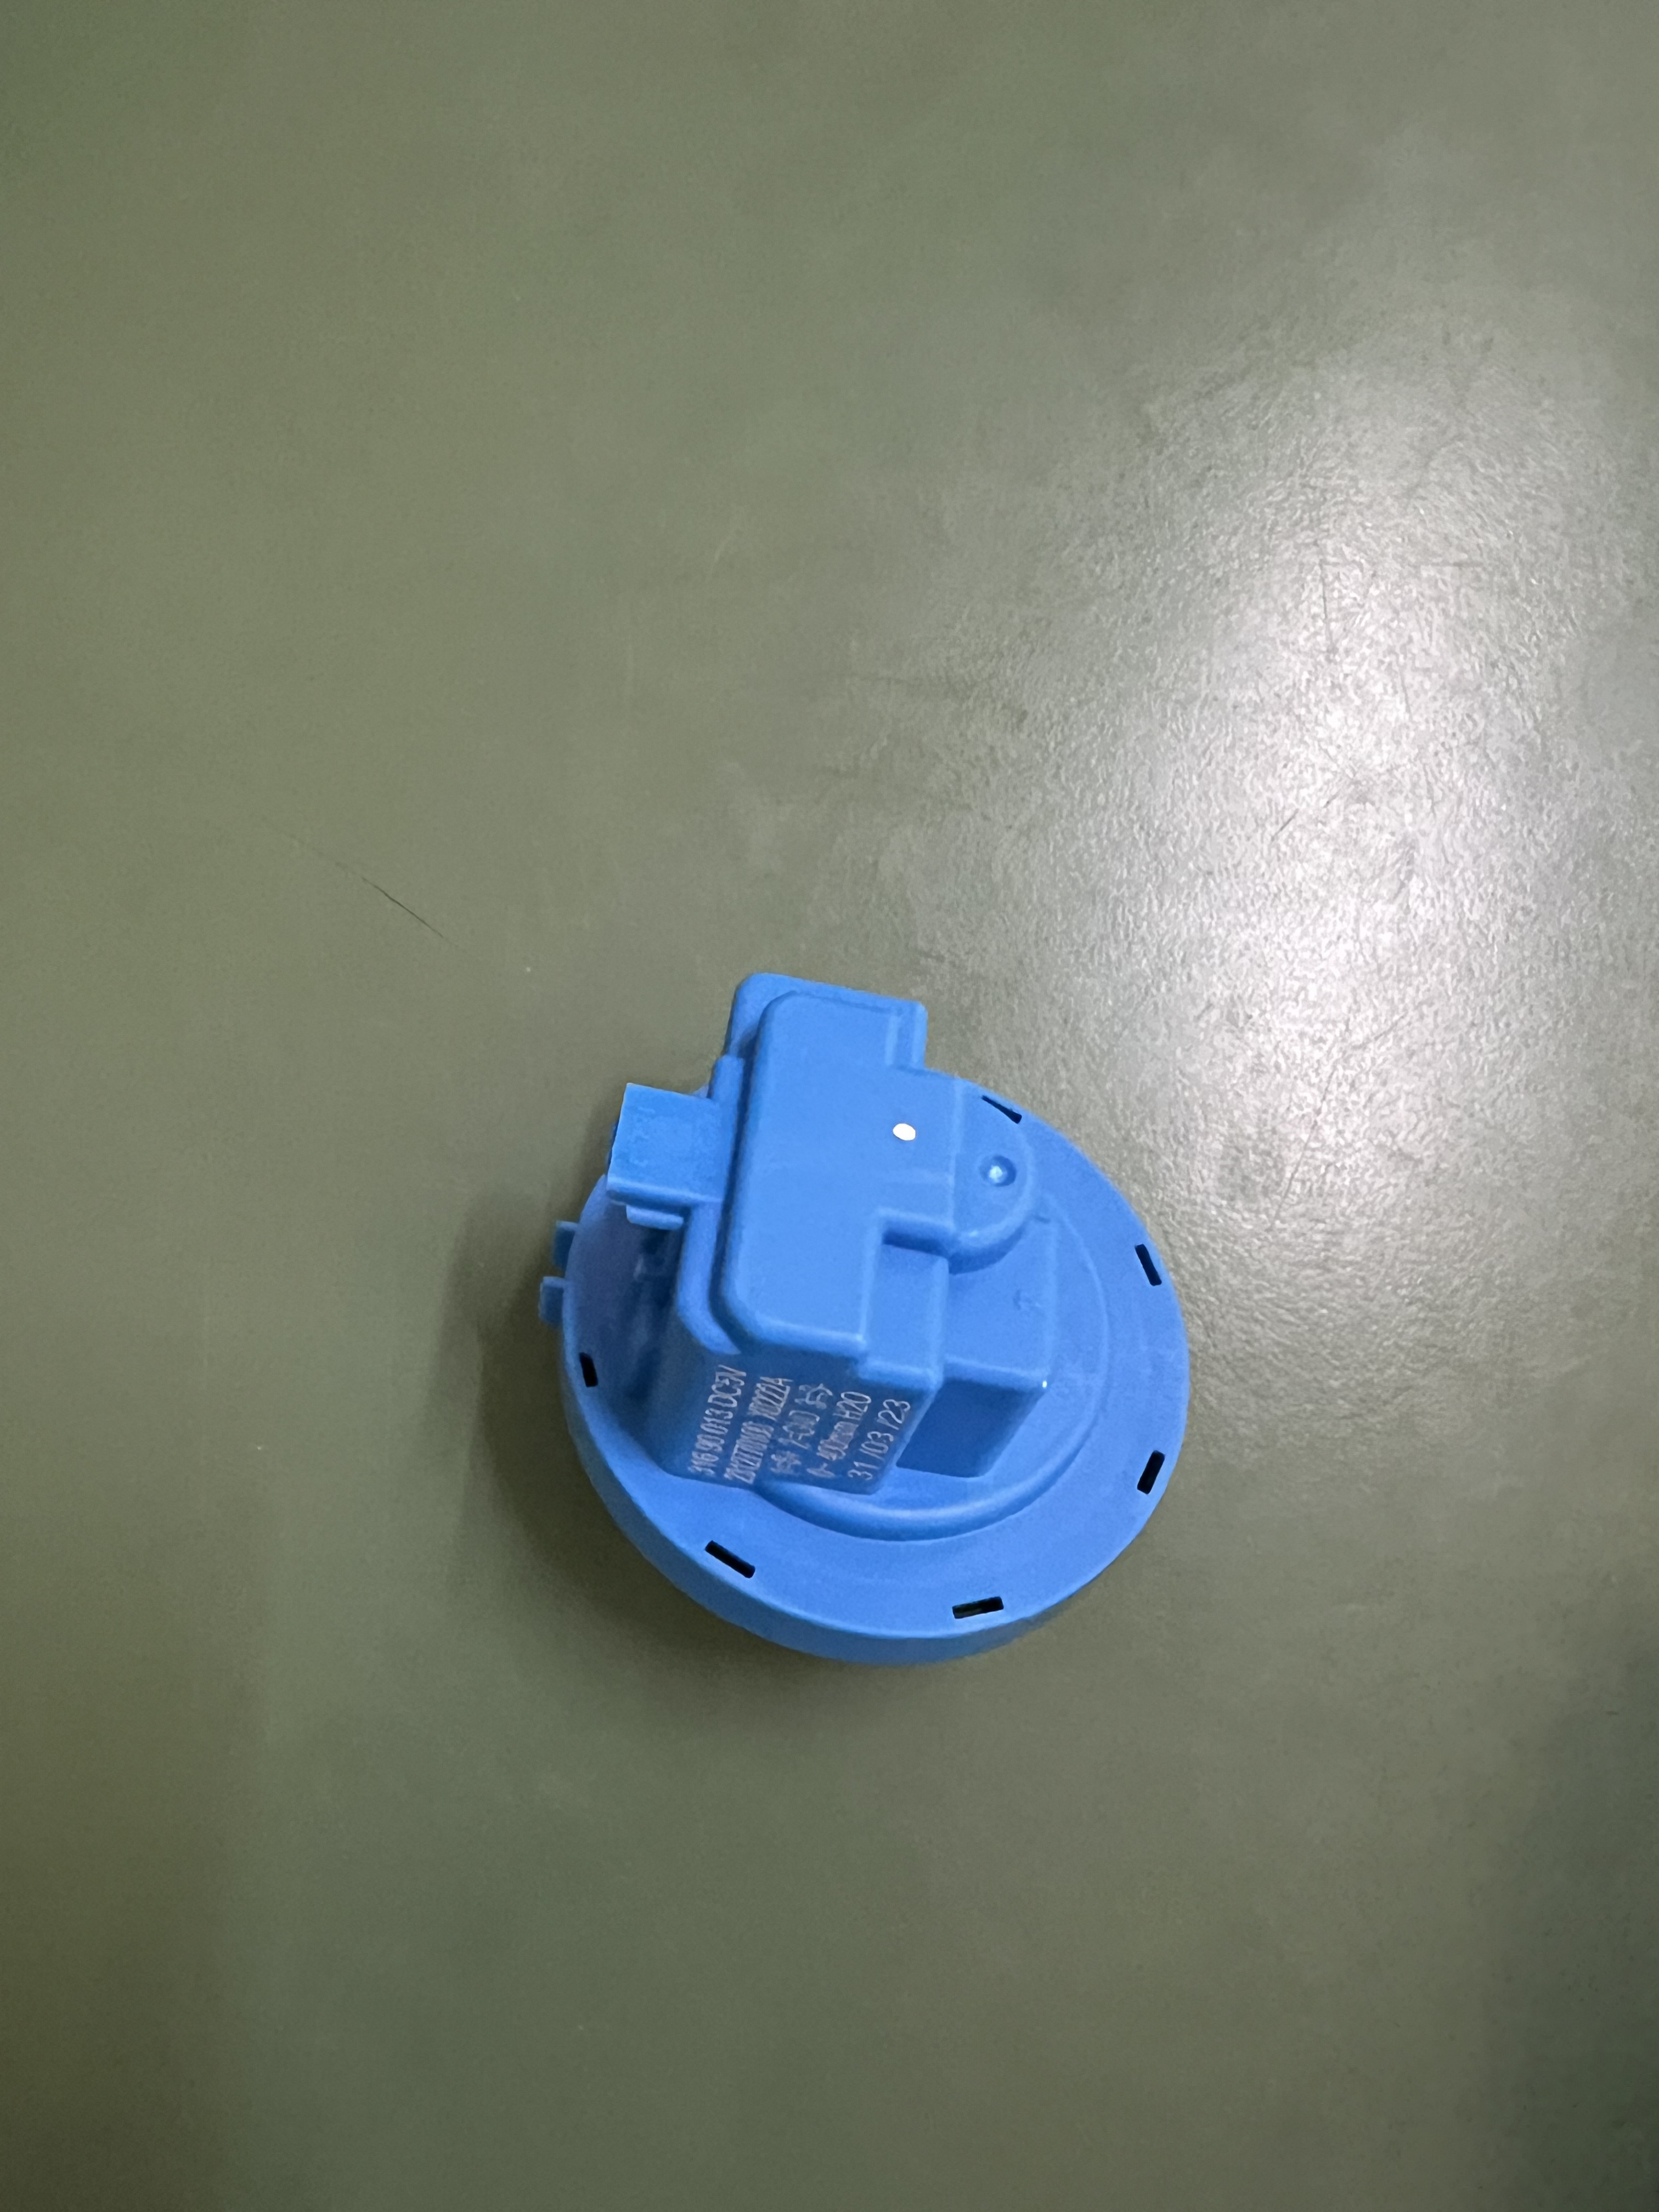voltas_beko_pressure_switch: (504, 928, 1230, 1698)
